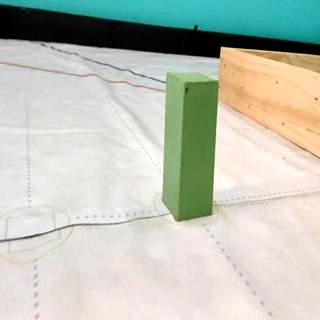greenbox: (162, 71, 218, 223)
